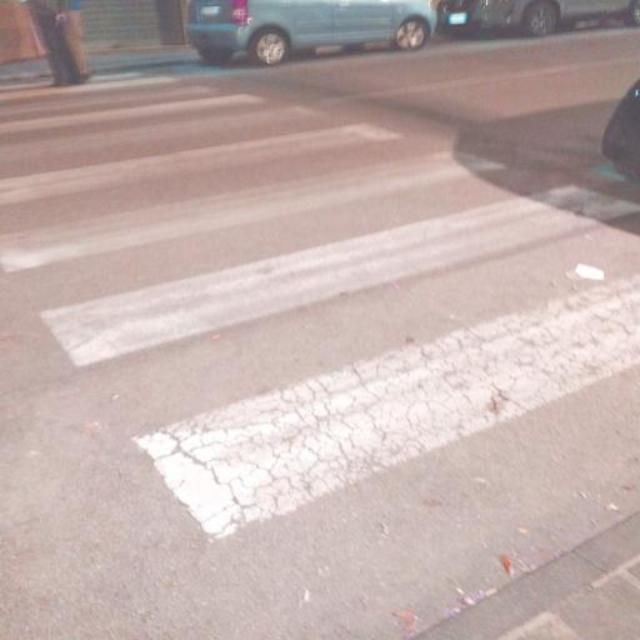sidewalk: (0, 70, 640, 640)
